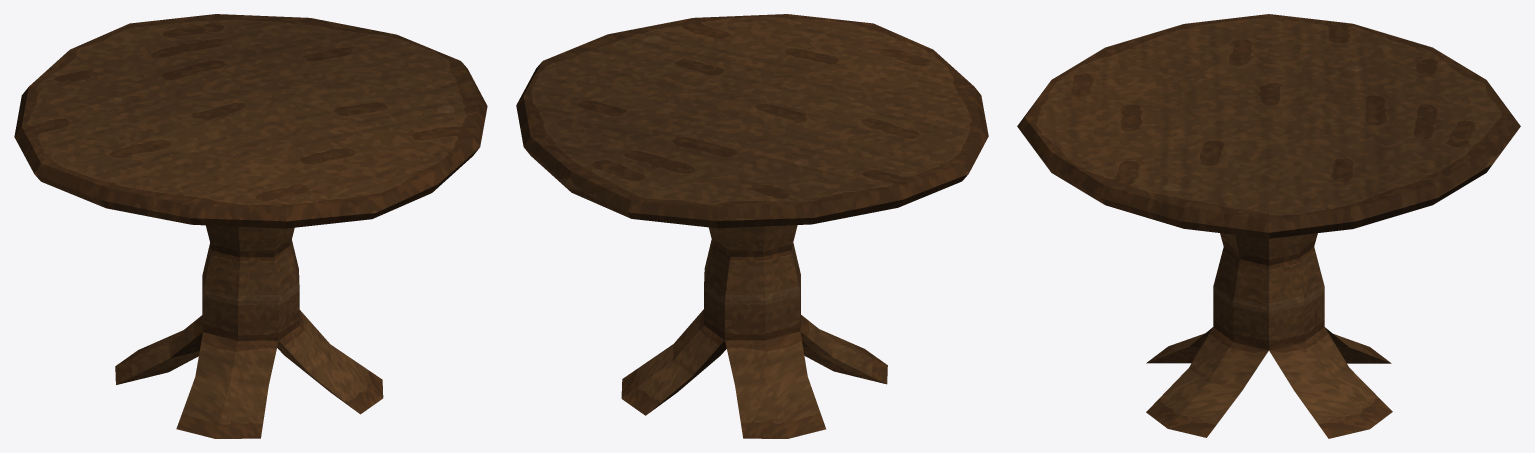
File: tableronde.fbx
3 views of the same model, side by side, from view 1: azimuth 30°, elevation 25°; view 2: azimuth 150°, elevation 25°; view 3: azimuth 270°, elevation 25° (orthographic).
Parts seen in each view (by area): view 1: Cube; view 2: Cube; view 3: Cube.
Part boxes in pixels (box(x1,y1,x2,y2)): Cube: box(14, 14, 487, 438); Cube: box(516, 14, 988, 438); Cube: box(1017, 14, 1520, 438).
Size of the model in its own units: 584 by 360 by 584.
